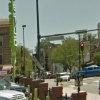Car: (70, 61, 100, 78)
